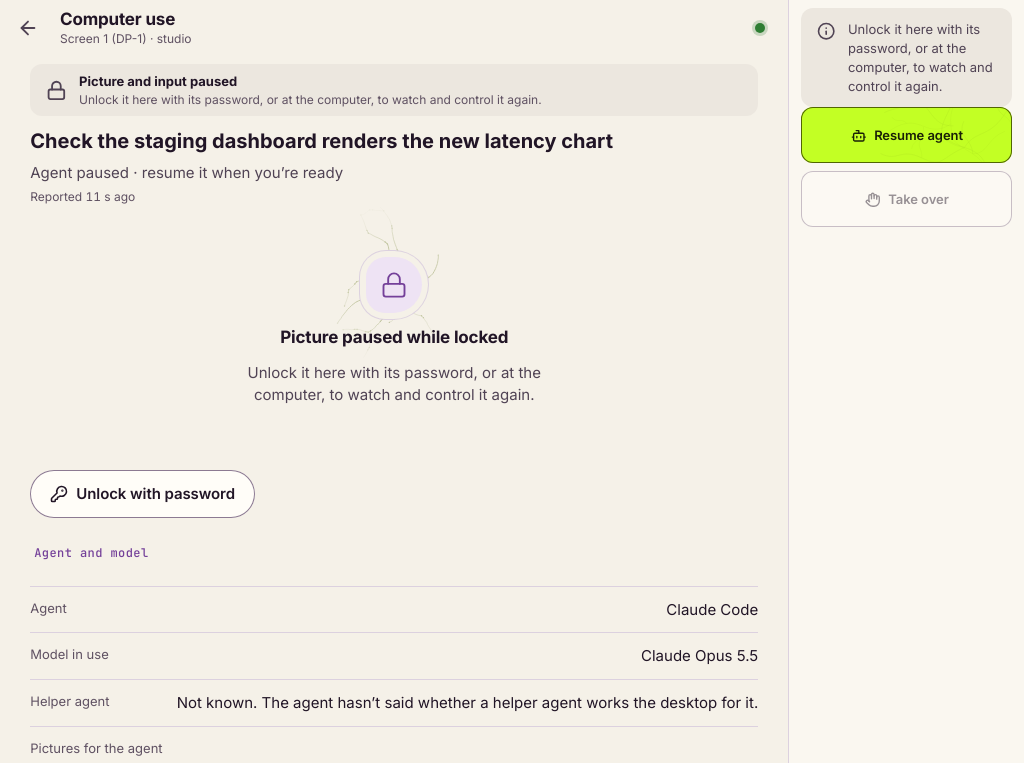
Test case: locked Computer use has no picture or handback, and the computer refuses lease requests
This screenshot has width=1024, height=763.
Expected: the text "Picture paused while locked" is shown, [280,325,508,350]
Expected: the button "Take over" is disabled, [802,171,1012,227]
Step 1. Click the button "Resume agent" → (907, 135), box [802,107,1012,163]
Wait 150 ms
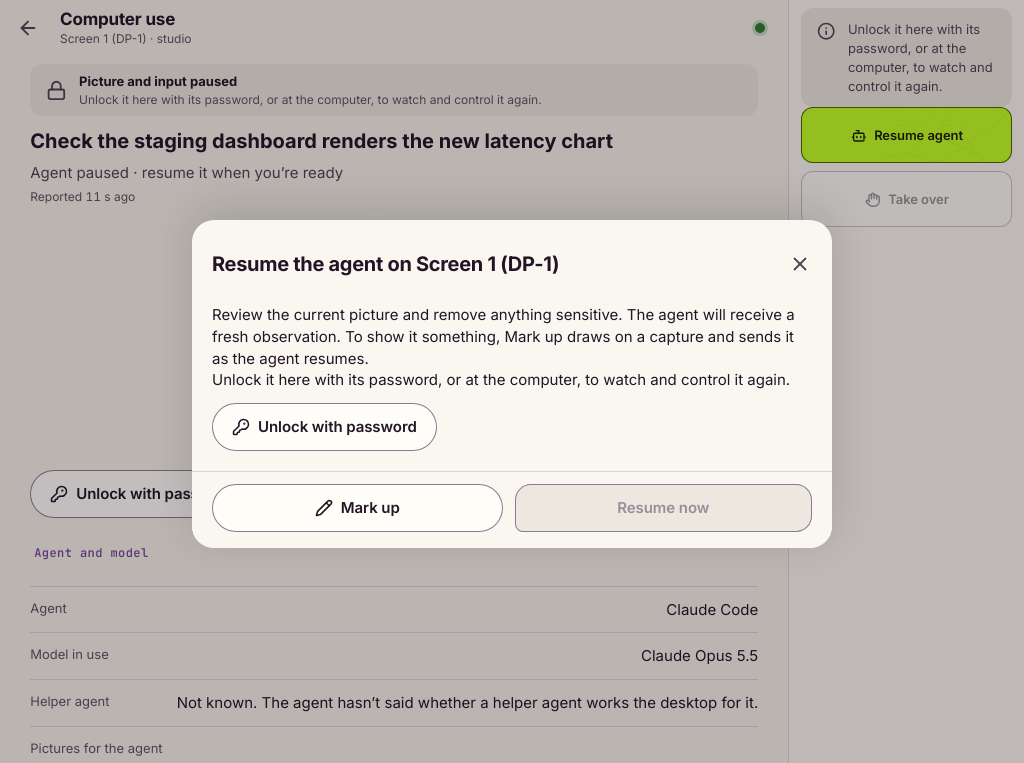
Expected: the button "Resume now" is disabled, [514,484,812,532]
